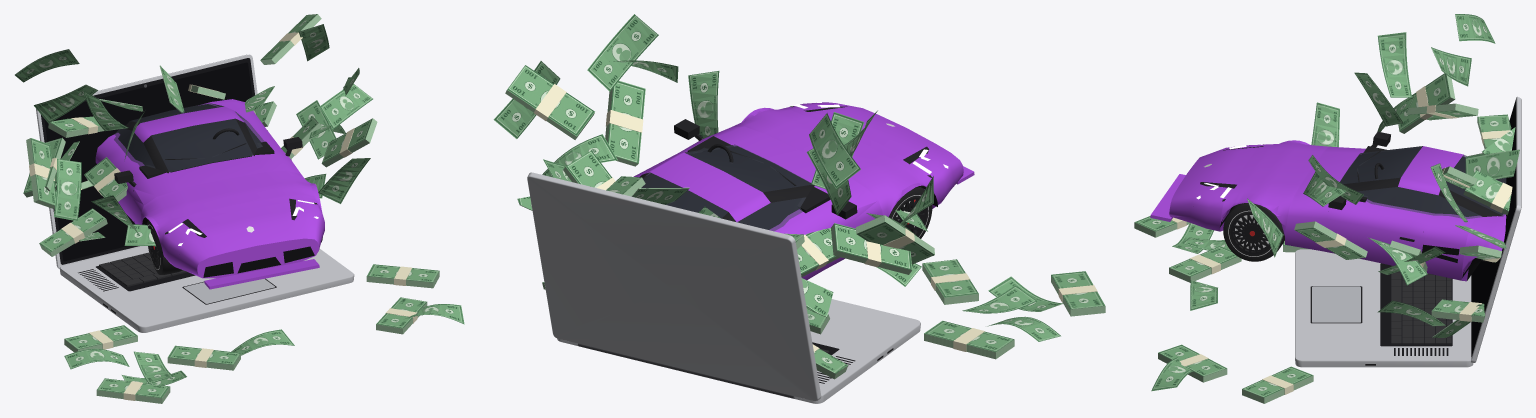
Rendered from laptopcar.glb.
3 renders of one model, left to right at view 1: azimuth 30°, elevation 25°; view 2: azimuth 150°, elevation 25°; view 3: azimuth 270°, elevation 25°, orthographic. The views are drawn at different scales.
Parts seen in each view (by area): view 1: carro_roxo, dinheiro, notebook, roda_dianteira_dir; view 2: notebook, dinheiro, carro_roxo, roda_dianteira_dir; view 3: dinheiro, carro_roxo, notebook, roda_dianteira_esq.
Boxes of the visible parts, left/top/right/bottom form: carro_roxo: left=95, top=99, right=324, bottom=289; dinheiro: left=15, top=14, right=464, bottom=403; notebook: left=36, top=54, right=354, bottom=332; roda_dianteira_dir: left=147, top=220, right=182, bottom=274; notebook: left=527, top=172, right=920, bottom=403; dinheiro: left=493, top=14, right=1105, bottom=379; carro_roxo: left=632, top=102, right=974, bottom=279; roda_dianteira_dir: left=889, top=187, right=932, bottom=238; dinheiro: left=1134, top=14, right=1519, bottom=403; carro_roxo: left=1150, top=131, right=1506, bottom=281; notebook: left=1295, top=96, right=1521, bottom=367; roda_dianteira_esq: left=1223, top=203, right=1284, bottom=261.
Bounding box in the file's own units: 1.09 × 0.6453 × 0.908.
19 materials, 1 textured.
